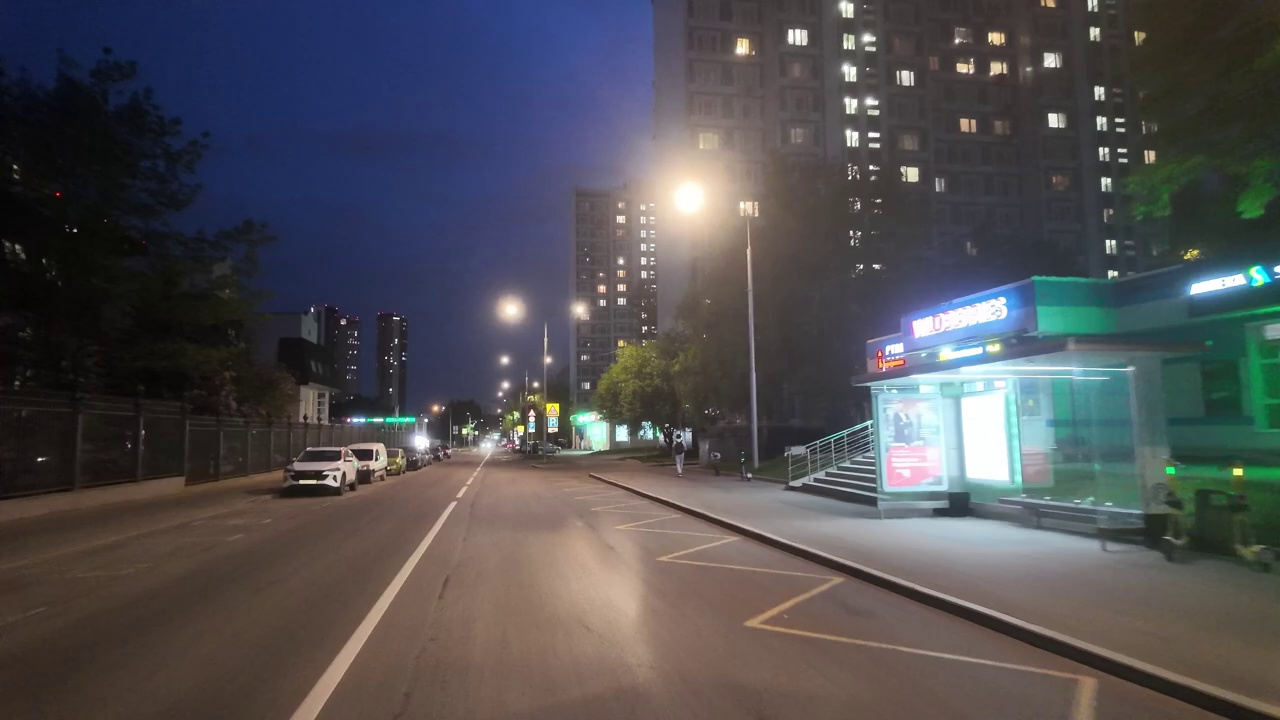acesa: (661, 171, 717, 226), (495, 293, 526, 325), (568, 298, 592, 325)
